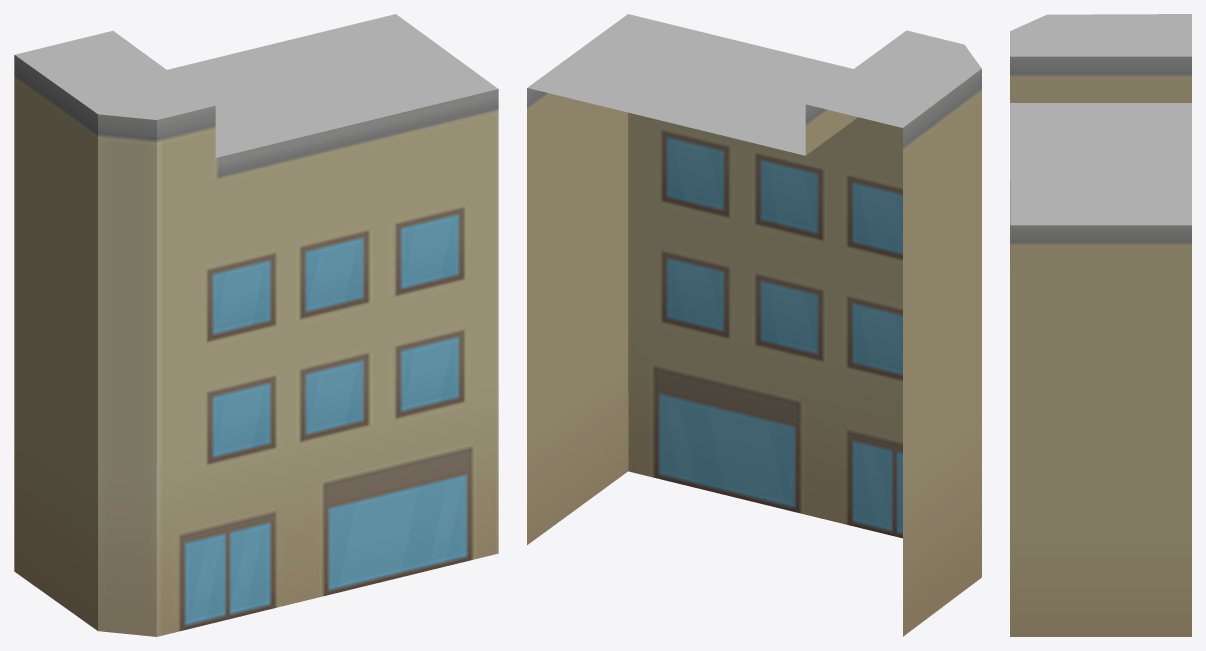
The model's file is Common_Building_01.fbx.
3 renders of one model, left to right at view 1: azimuth 30°, elevation 25°; view 2: azimuth 150°, elevation 25°; view 3: azimuth 270°, elevation 25°, orthographic. The views are drawn at different scales.
Visible parts, largest first — view 1: Common_Building_01; view 2: Common_Building_01; view 3: Common_Building_01.
Part boxes in pixels (box(x1,y1,x2,y2)): Common_Building_01: box(14, 14, 498, 636); Common_Building_01: box(527, 14, 981, 636); Common_Building_01: box(1010, 14, 1191, 636).
Size of the model in its own units: 1545 by 2000 by 719.
